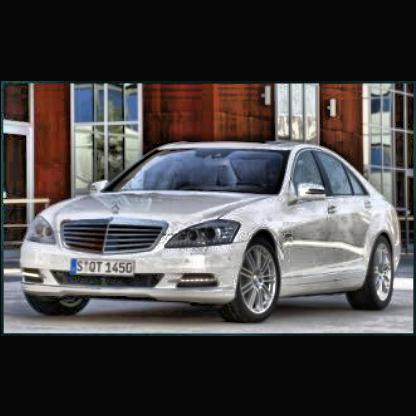Mercedes-Benz S-Class Sedan 2012: (17, 139, 405, 325)
